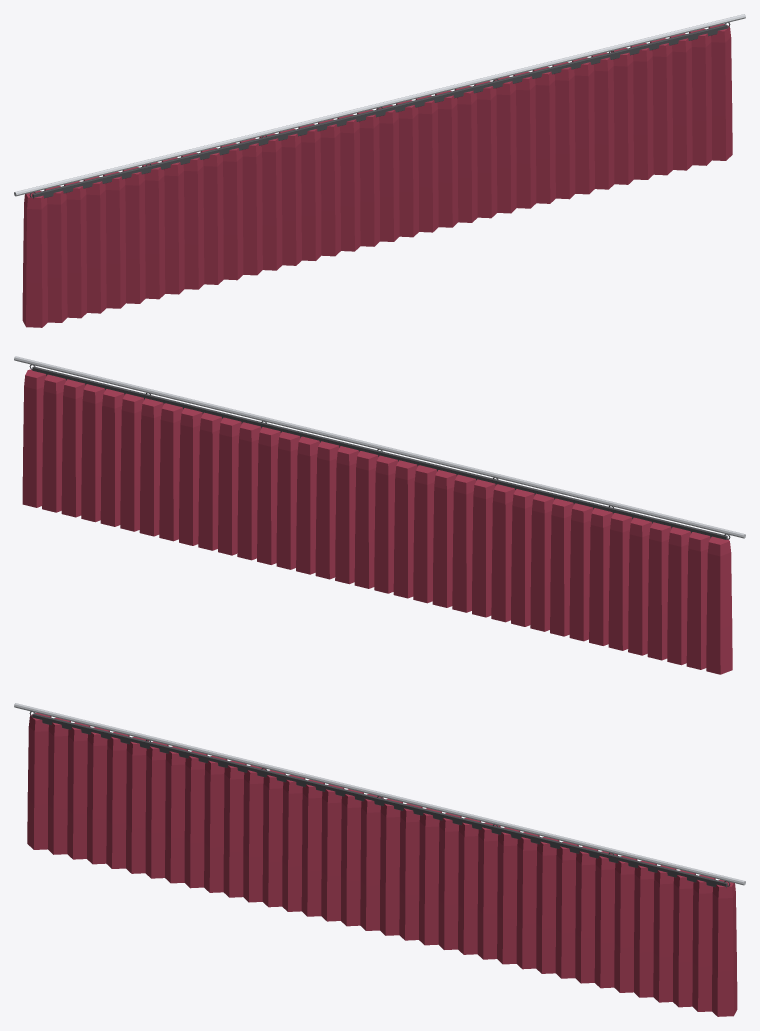
The model's file is theatre-stage-and-backstage-stage-border-drape-88789270__35878.glb.
The picture shows the model from 3 angles, top to bottom: view 1: azimuth 30°, elevation 25°; view 2: azimuth 150°, elevation 25°; view 3: azimuth 330°, elevation 25°; orthographic projection.
Parts seen in each view (by area): view 1: stage-border-drape; view 2: stage-border-drape; view 3: stage-border-drape.
Boxes of the visible parts, x1,y1,x2,y2 form: stage-border-drape: (14, 14, 745, 327); stage-border-drape: (14, 356, 745, 674); stage-border-drape: (14, 703, 745, 1016).
Bounding box in the file's own units: 8.3 × 1.5 × 0.2493.
